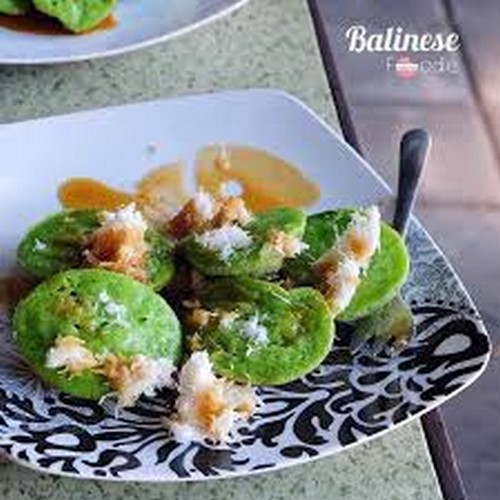laklak: (24, 180, 338, 381)
